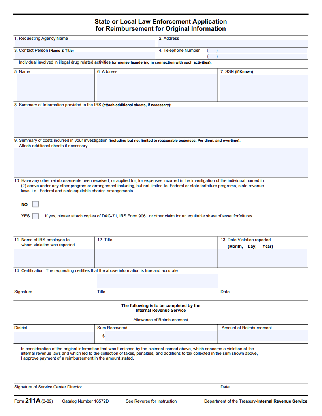checkbox: (31, 200, 39, 208), (31, 212, 39, 220)
textbox: (11, 136, 310, 179), (12, 100, 311, 139), (93, 67, 219, 103), (92, 236, 219, 268), (215, 67, 310, 103), (11, 66, 96, 103), (215, 236, 309, 268), (92, 323, 219, 345), (10, 236, 96, 268), (156, 34, 309, 49), (12, 45, 157, 60), (13, 34, 157, 49), (215, 322, 310, 344), (12, 323, 96, 345), (154, 45, 310, 54), (154, 51, 310, 60)
textline: (11, 294, 309, 302), (12, 375, 219, 384), (96, 278, 217, 290), (11, 279, 96, 291), (218, 278, 304, 289), (219, 375, 310, 385)
